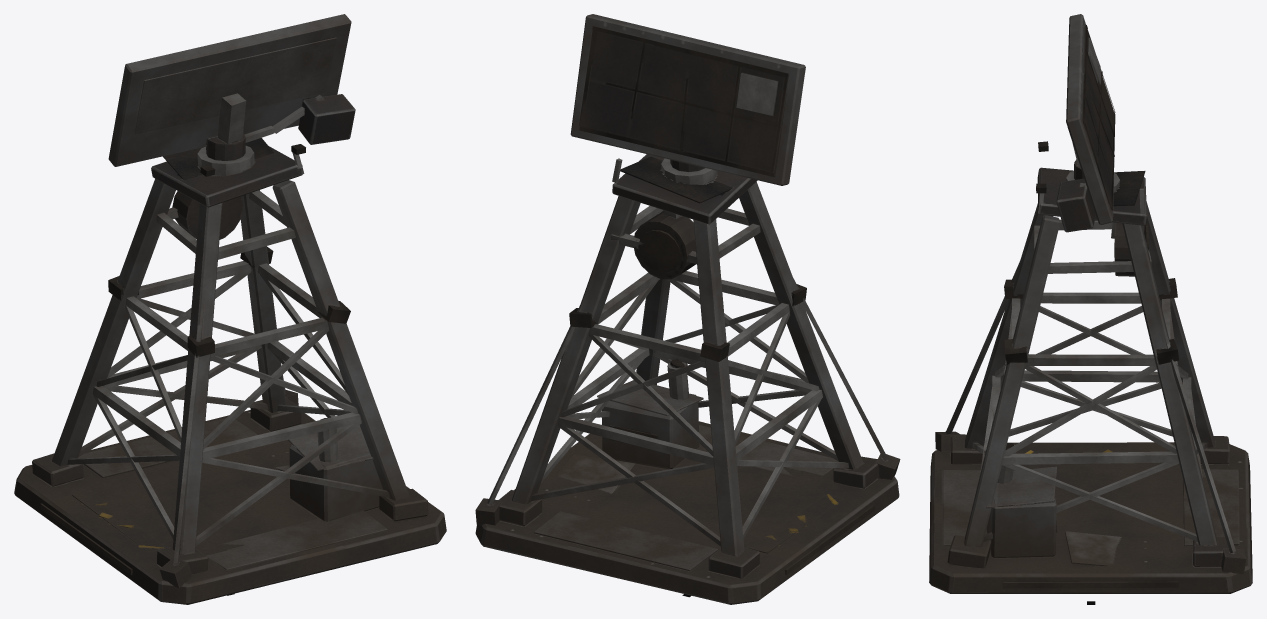
The model's file is chs_eye_wreck.fbx.
3 views of the same model, side by side, from view 1: azimuth 30°, elevation 25°; view 2: azimuth 150°, elevation 25°; view 3: azimuth 270°, elevation 25° (orthographic). The views are drawn at different scales.
Visible parts, largest first — view 1: base_bar, radar_bar; view 2: base_bar, radar_bar; view 3: base_bar, radar_bar.
Part boxes in pixels (x1,y1,x2,y2): base_bar: (14, 138, 446, 604); radar_bar: (108, 14, 355, 166); base_bar: (475, 154, 900, 604); radar_bar: (570, 14, 805, 185); base_bar: (929, 141, 1252, 593); radar_bar: (1056, 14, 1115, 232).
Bounding box in the file's own units: 773 × 1422 × 774.
2 materials, 2 textured.
